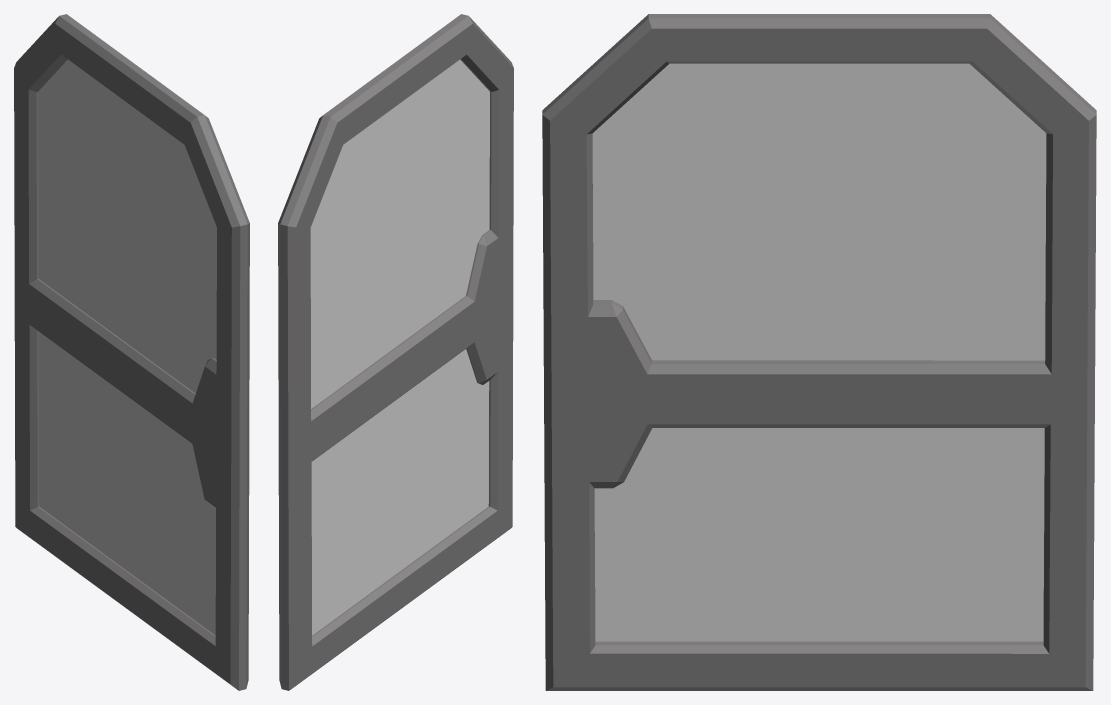
Rendered from SM_DoorVariant.fbx.
3 renders of one model, left to right at view 1: azimuth 30°, elevation 25°; view 2: azimuth 150°, elevation 25°; view 3: azimuth 270°, elevation 25°, orthographic. The views are drawn at different scales.
Parts seen in each view (by area): view 1: Cube.039; view 2: Cube.039; view 3: Cube.039.
Part boxes in pixels (x1,y1,x2,y2): Cube.039: [14, 14, 249, 690]; Cube.039: [278, 14, 513, 690]; Cube.039: [542, 14, 1096, 690].
Size of the model in its own units: 122 by 5.69 by 163.
